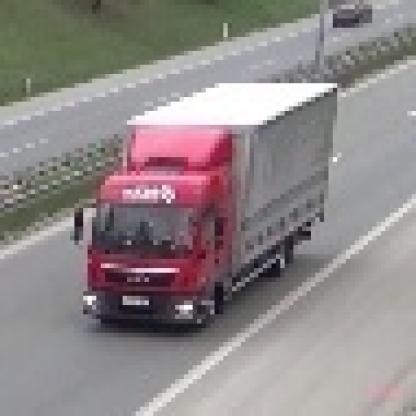truck: (67, 80, 338, 325)
